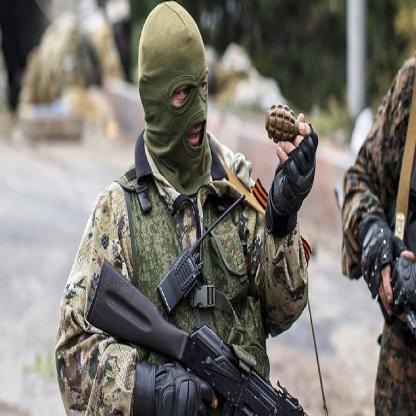Grenade: (264, 103, 304, 144)
Gun: (86, 257, 309, 416)
